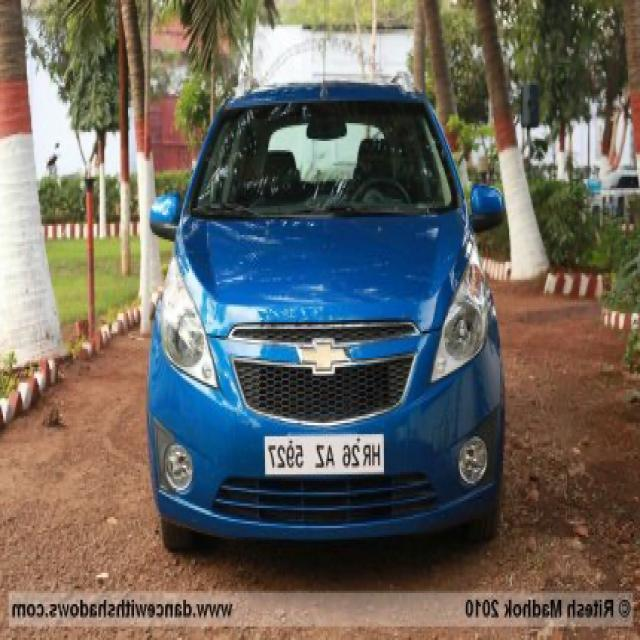license_plate: (260, 428, 389, 481)
